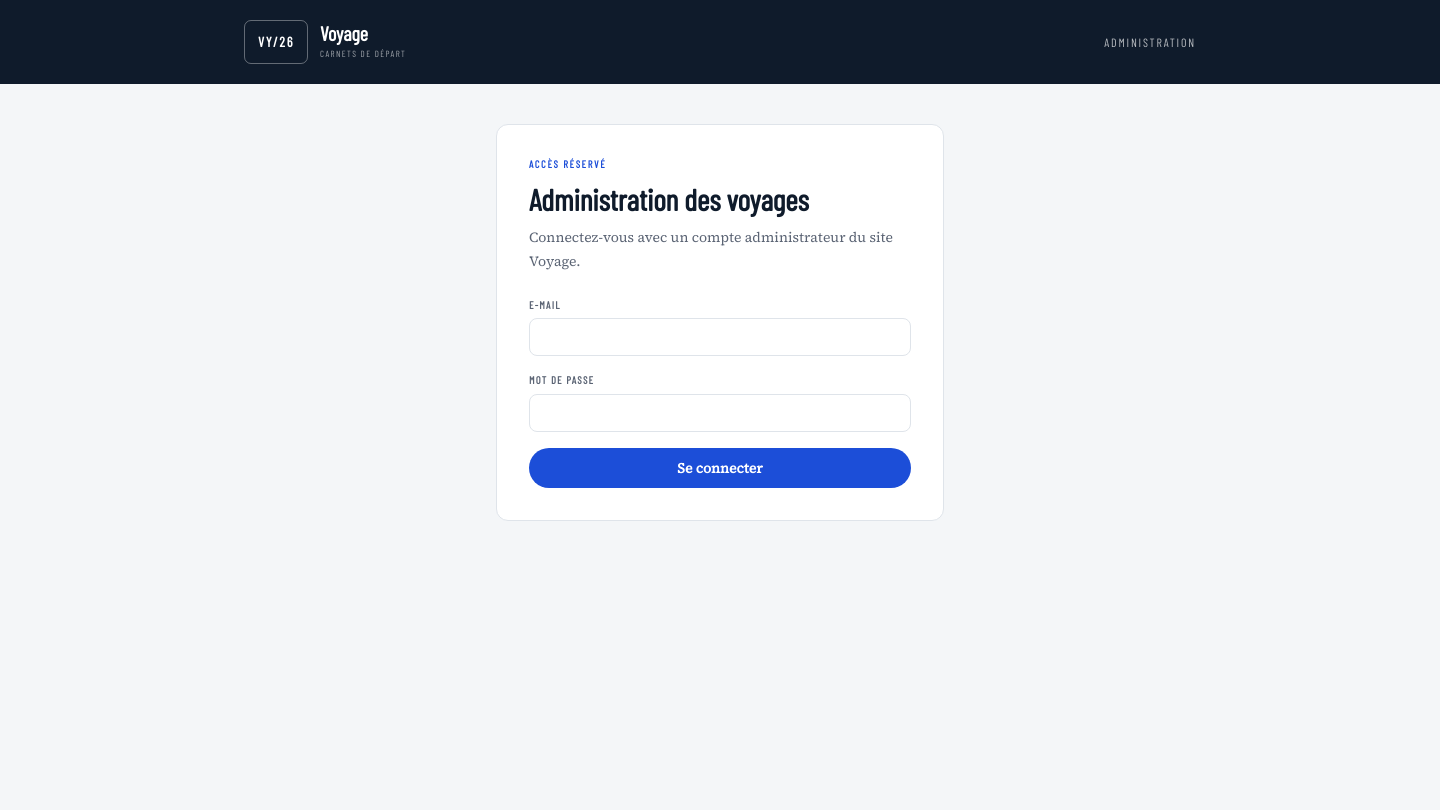
Scenario: connexion à l'administration › affiche les identifiants refusés
In the field labelled "E-mail": (720, 338) x1=529 y1=318 x2=911 y2=356, type "x@y.fr"
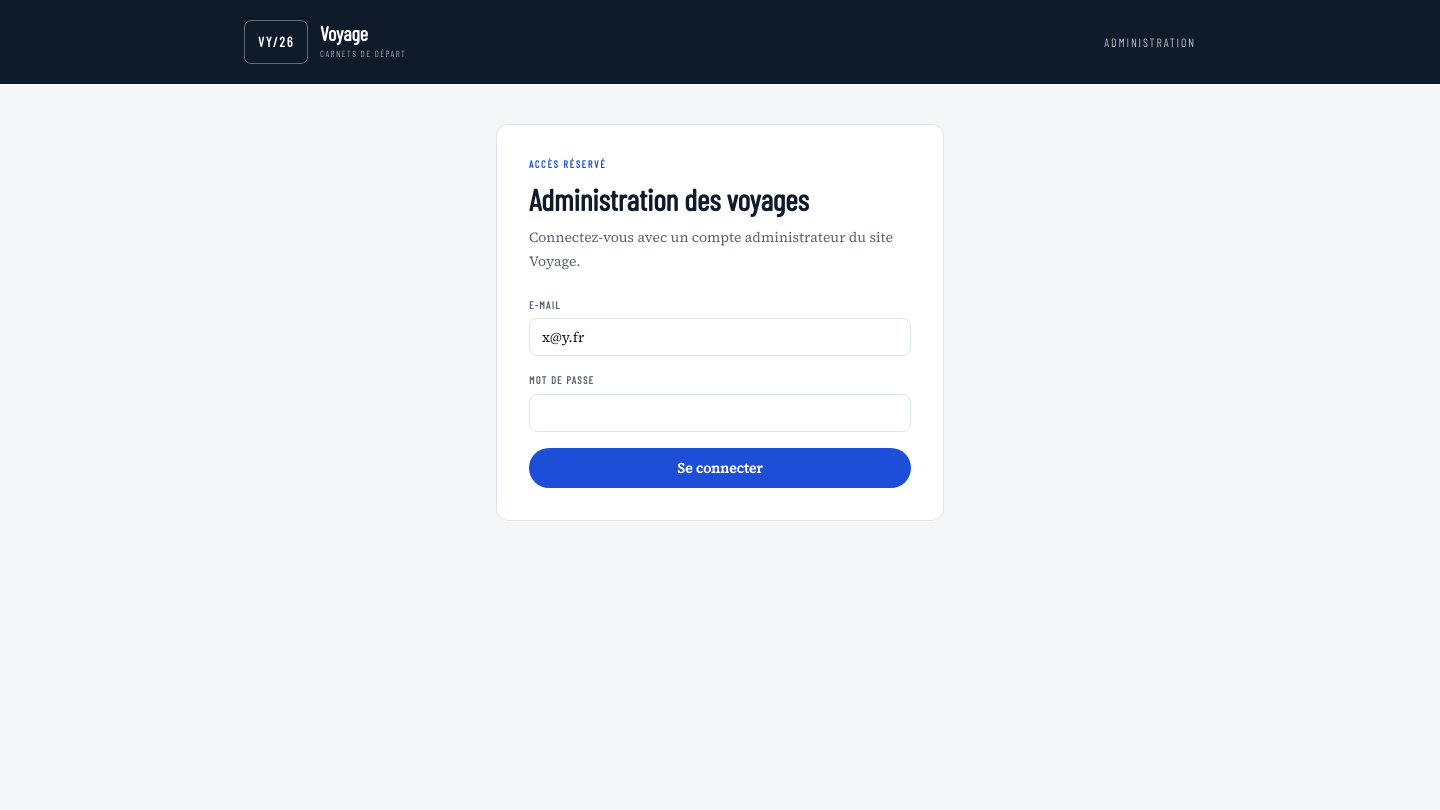
In the password field labelled "Mot de passe": (720, 413) x1=529 y1=394 x2=911 y2=432, type "faux"
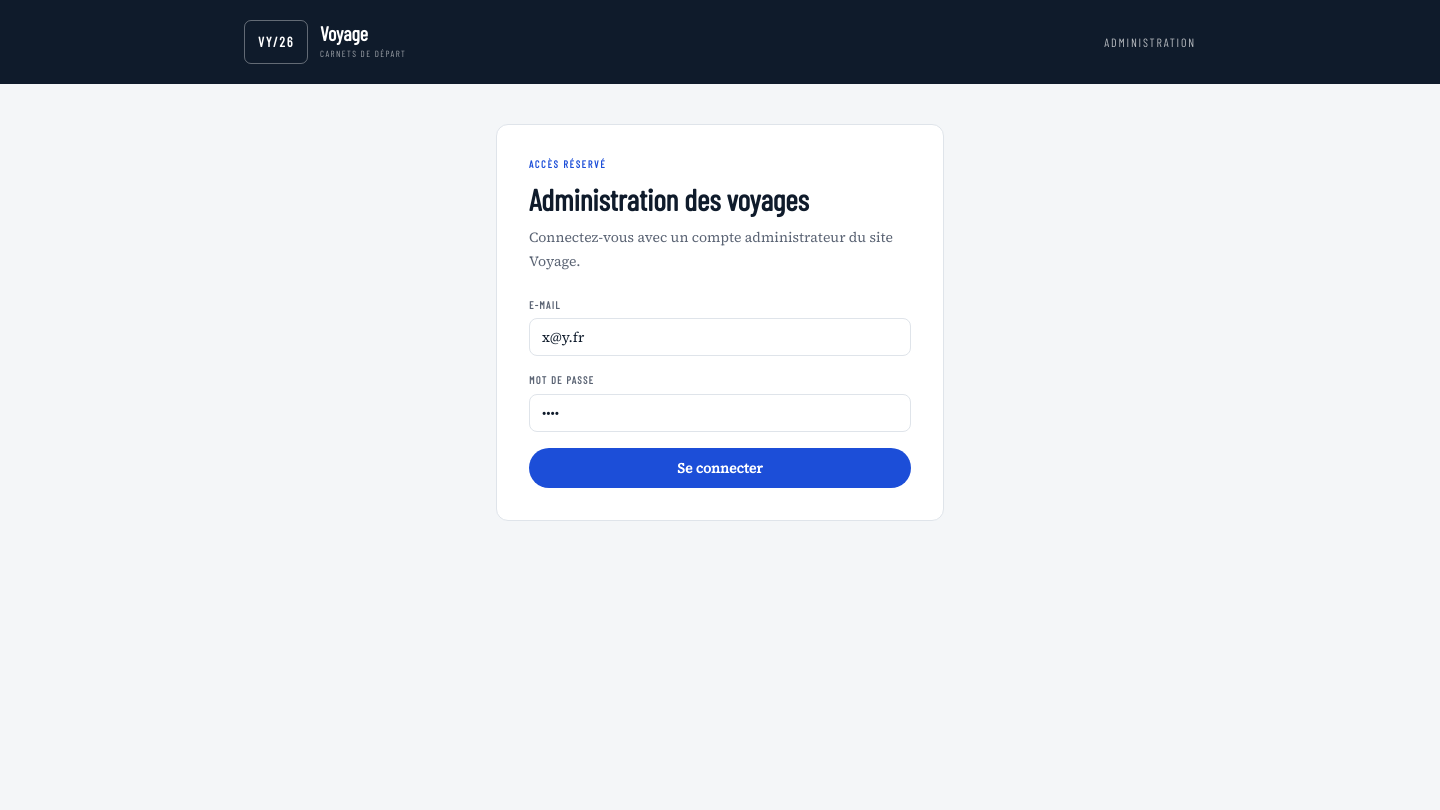
Click the button "Se connecter": (720, 468) x1=529 y1=448 x2=911 y2=488
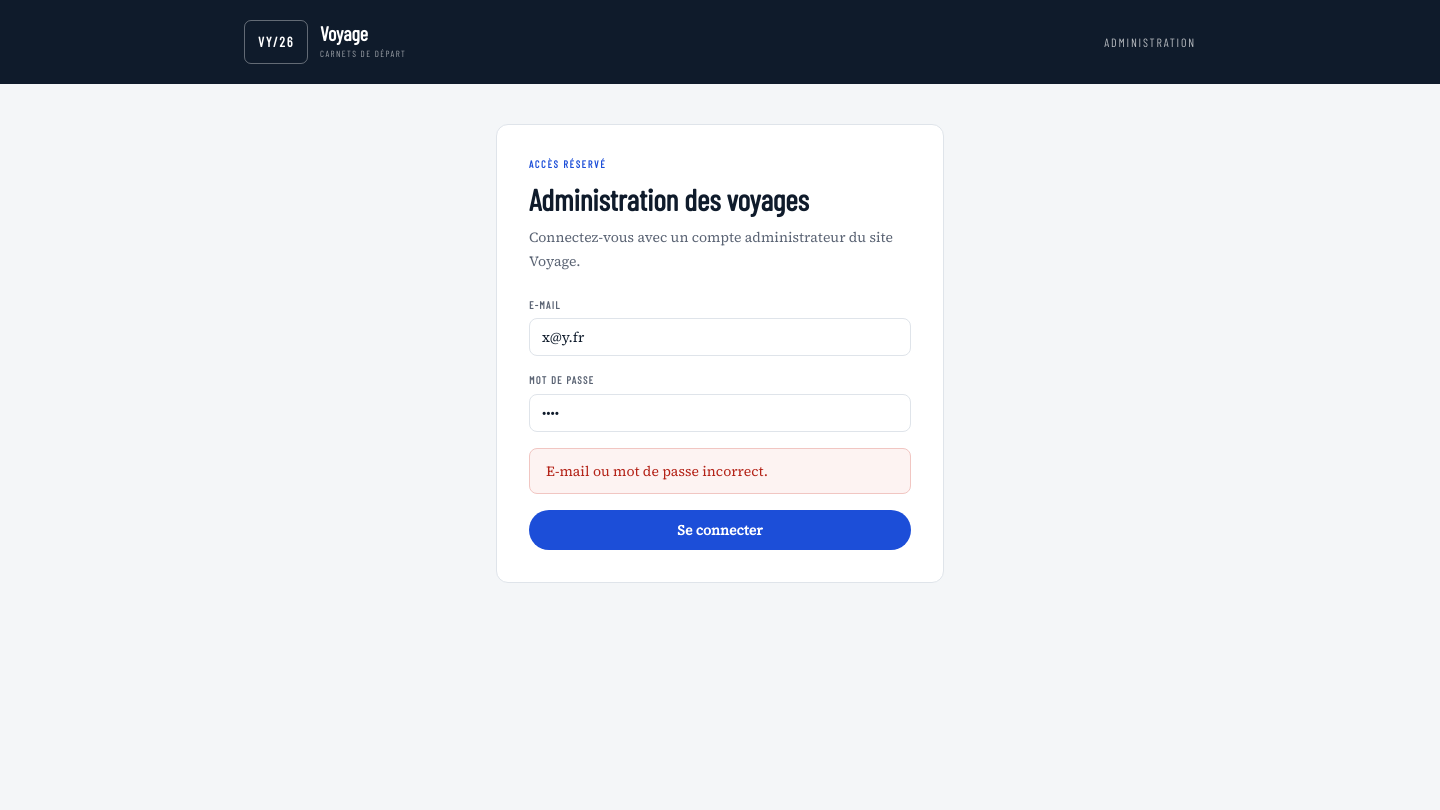
Check: the message reads "E-mail ou mot de passe incorrect.", box x1=546 y1=461 x2=768 y2=481
